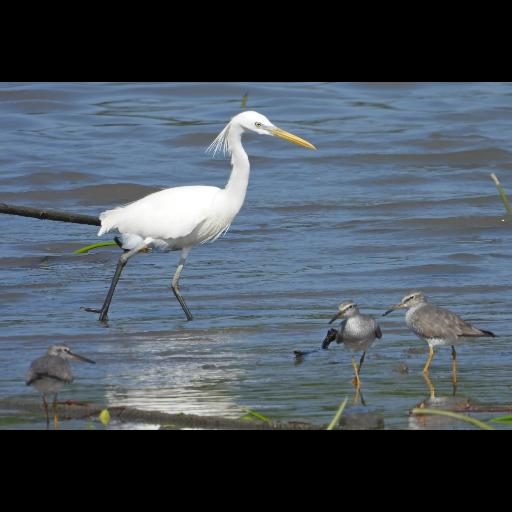chinese_egret: (78, 110, 318, 324)
